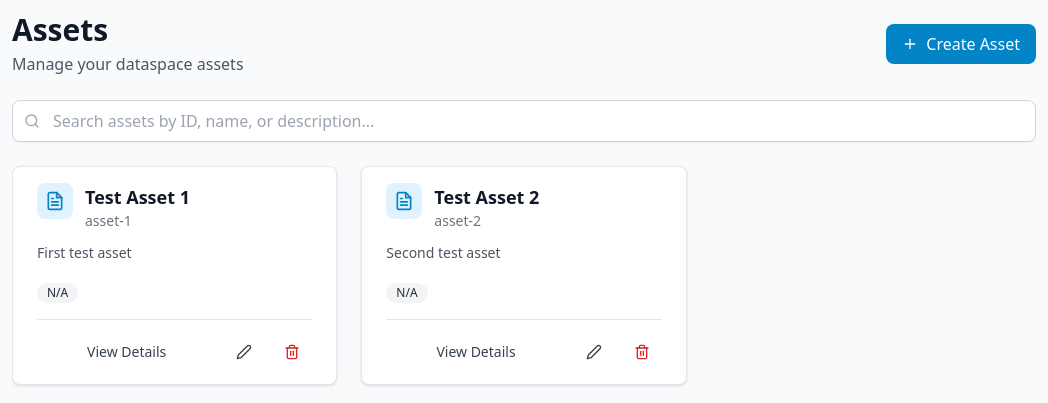
Test case: Assets Page Integration Tests › Search Functionality › should filter assets based on search query
Expected: the heading "Test Asset 1" is shown, [85,185,190,209]
Find search input and type
In the field with placeholder "Search assets by ID, name, or description...": (524, 121) [12,100,1036,142], type "Asset 1"
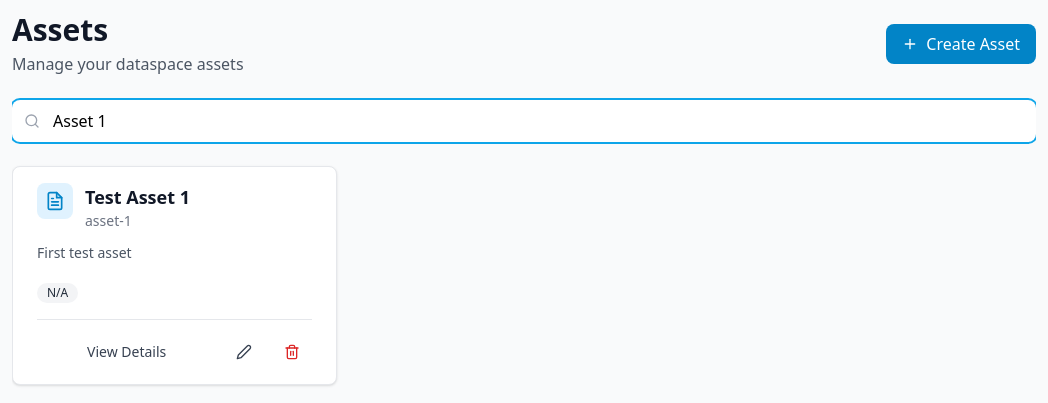
Expected: the heading "Test Asset 1" is shown, [85,185,190,209]
Now the heading "Test Asset 2" is gone
